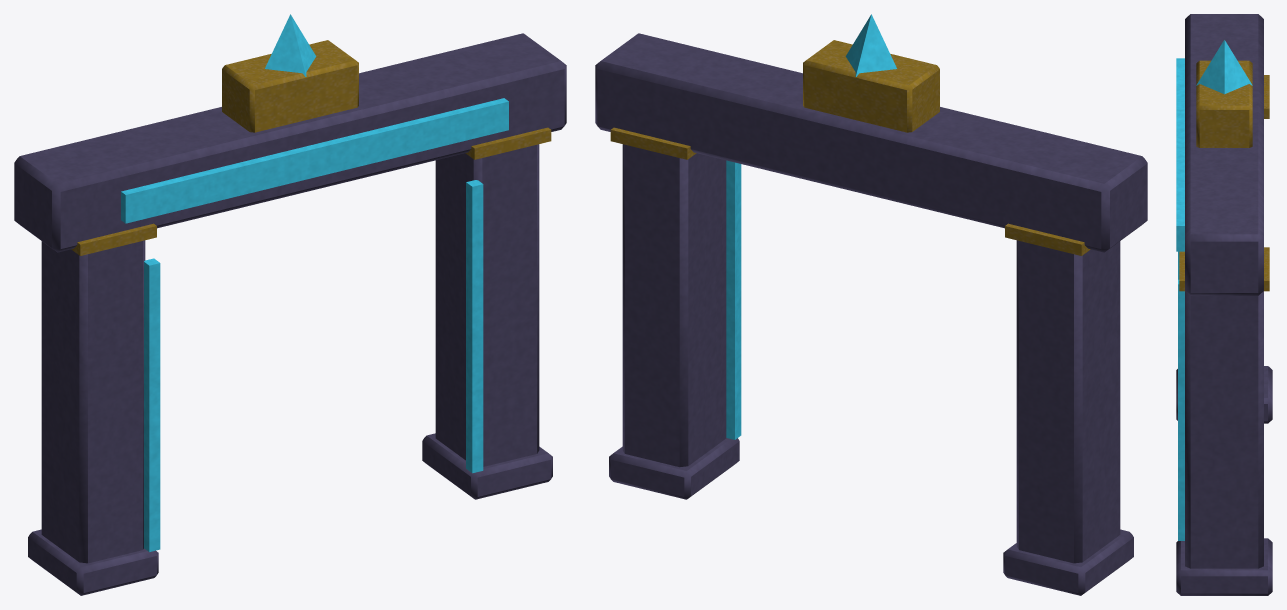
Rendered from stage_gate_arch.fbx.
3 renders of one model, left to right at view 1: azimuth 30°, elevation 25°; view 2: azimuth 150°, elevation 25°; view 3: azimuth 270°, elevation 25°, orthographic. The views are drawn at different scales.
Visible parts, largest first — view 1: Stage_gate_arch; view 2: Stage_gate_arch; view 3: Stage_gate_arch.
Boxes of the visible parts, <box> form: Stage_gate_arch: <box>14,14,566,595</box>; Stage_gate_arch: <box>595,14,1147,595</box>; Stage_gate_arch: <box>1176,14,1272,595</box>.
Size of the model in its own units: 9.4 by 8.85 by 1.7.
1 material, 1 textured.
